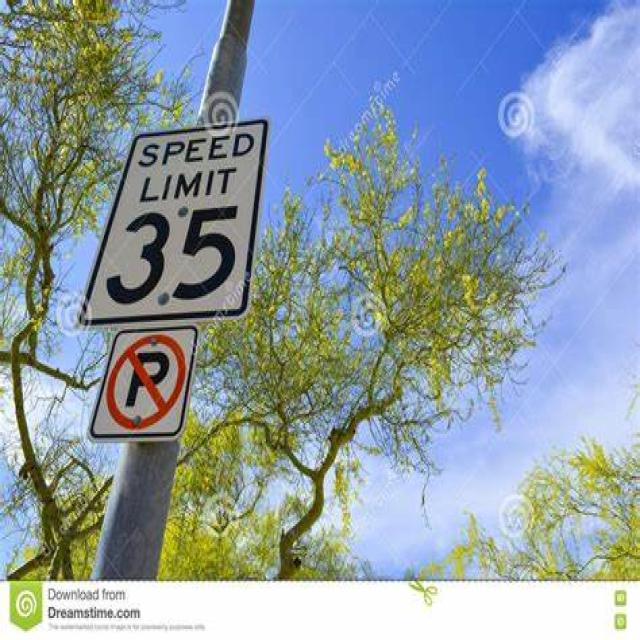speedLimit35: (78, 116, 287, 322)
